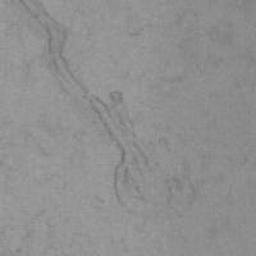Water spot: (17, 0, 197, 225)
